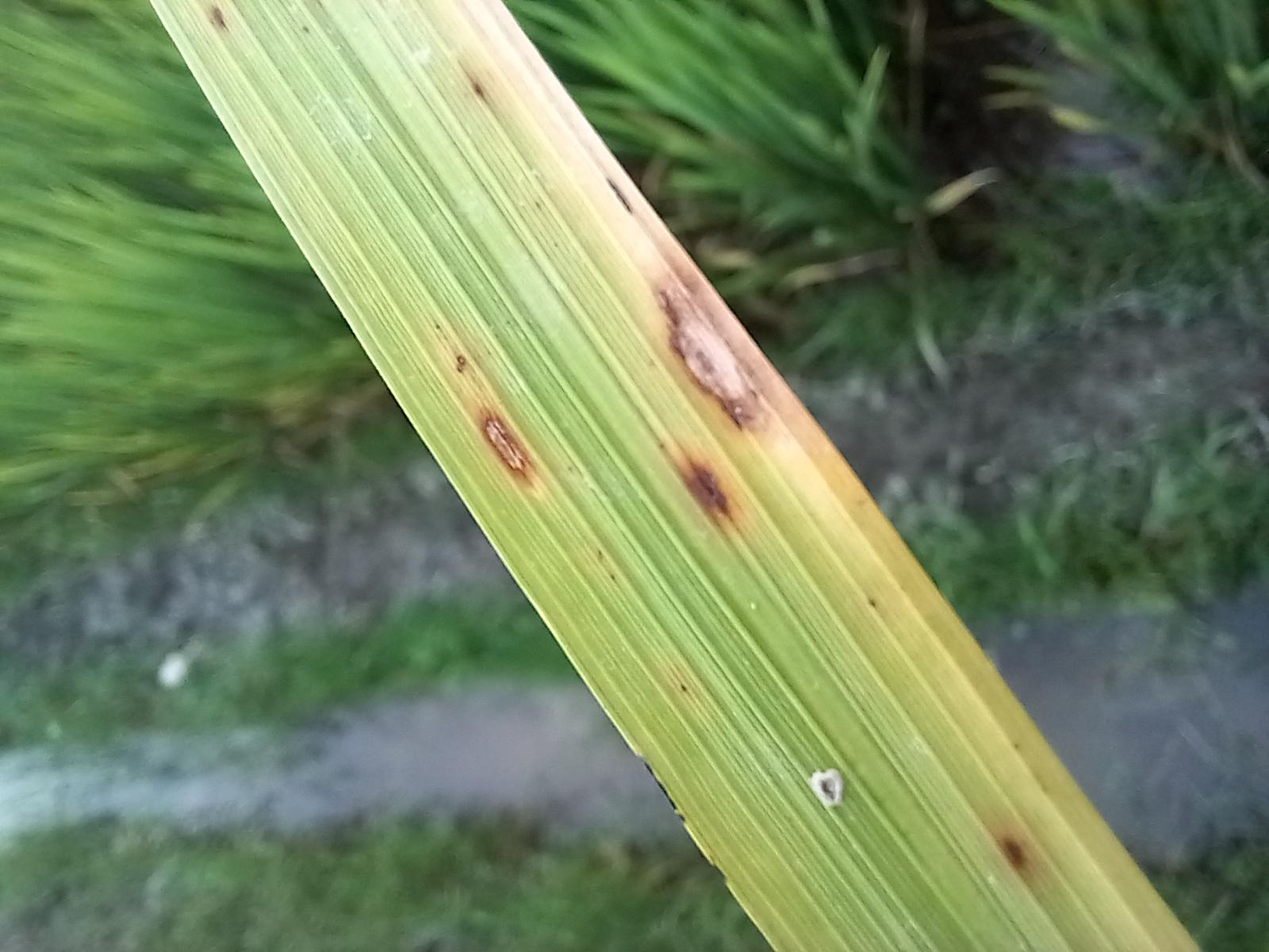LEAF BLAST: (688, 492, 935, 576), (630, 360, 720, 398)
